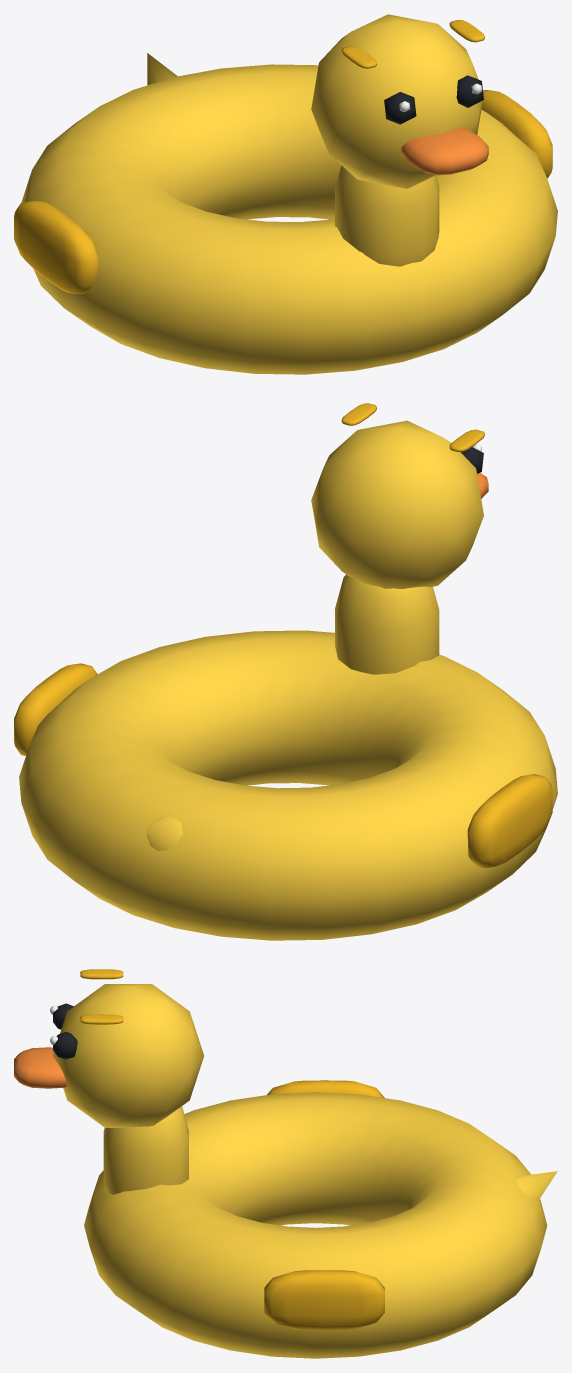
Rendered from boia_pato.glb.
The picture shows the model from 3 angles, top to bottom: view 1: azimuth 30°, elevation 25°; view 2: azimuth 150°, elevation 25°; view 3: azimuth 270°, elevation 25°; orthographic projection. The views are drawn at different scales.
Visible parts, largest first — view 1: boia_pato; view 2: boia_pato; view 3: boia_pato.
Part boxes in pixels (bbox=[...]): boia_pato: bbox=[14, 14, 557, 374]; boia_pato: bbox=[14, 403, 557, 940]; boia_pato: bbox=[14, 969, 557, 1358].
Size of the model in its own units: 1.08 by 0.734 by 1.22.
1 material, 1 textured.
